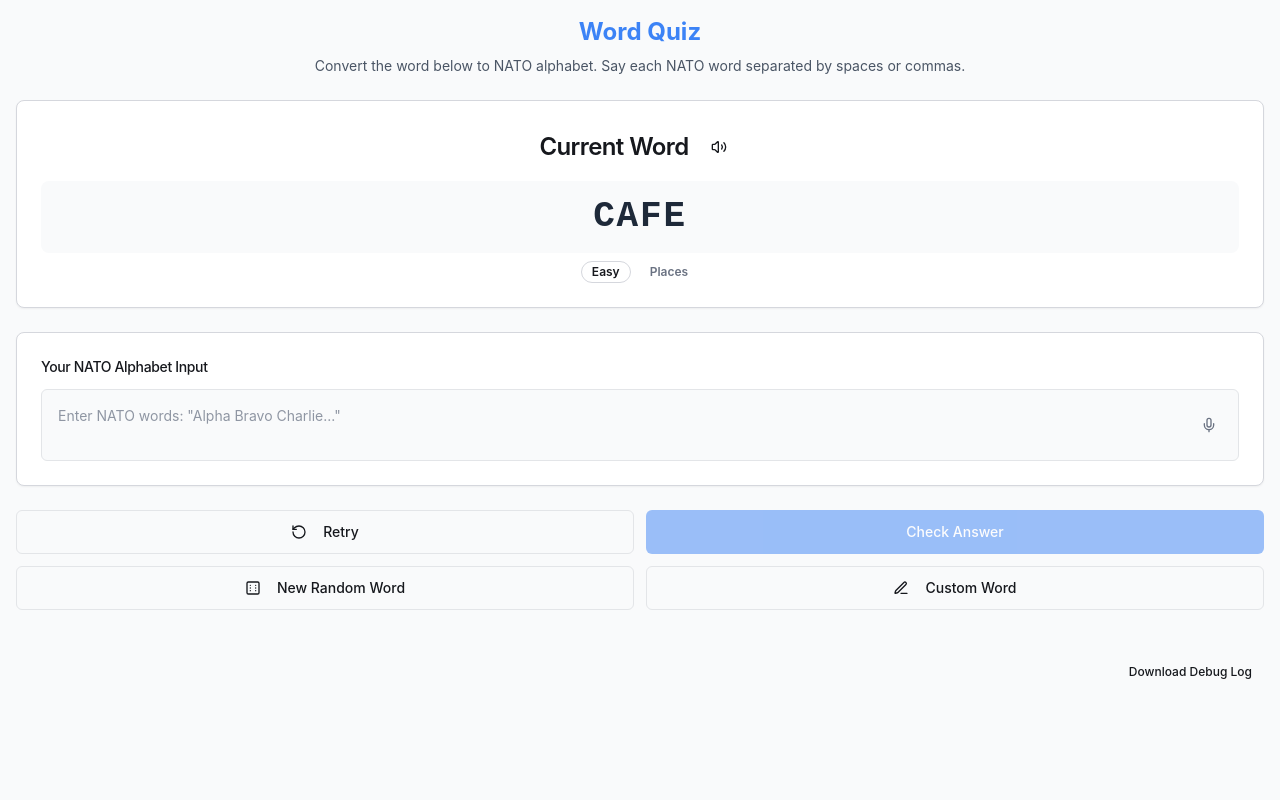
wordQuizSection › user interactions › should allow using custom words
Expected: the heading "Word Quiz" is shown, left=579, top=17, right=701, bottom=46
// Enable custom mode first
Click the button "Custom Word": (955, 588) left=646, top=566, right=1264, bottom=610
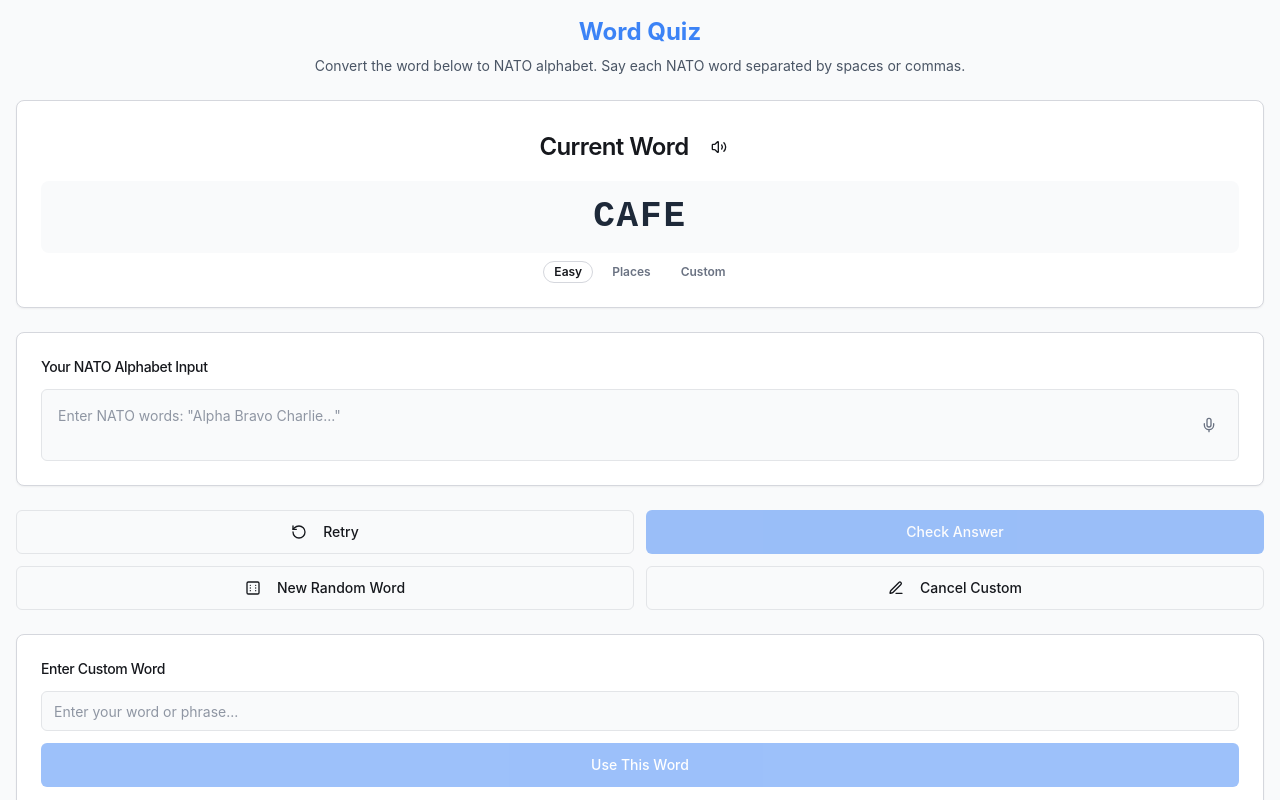
In the field with placeholder "Enter your word or phrase...": (640, 711) left=41, top=691, right=1239, bottom=731, type "HELLO"
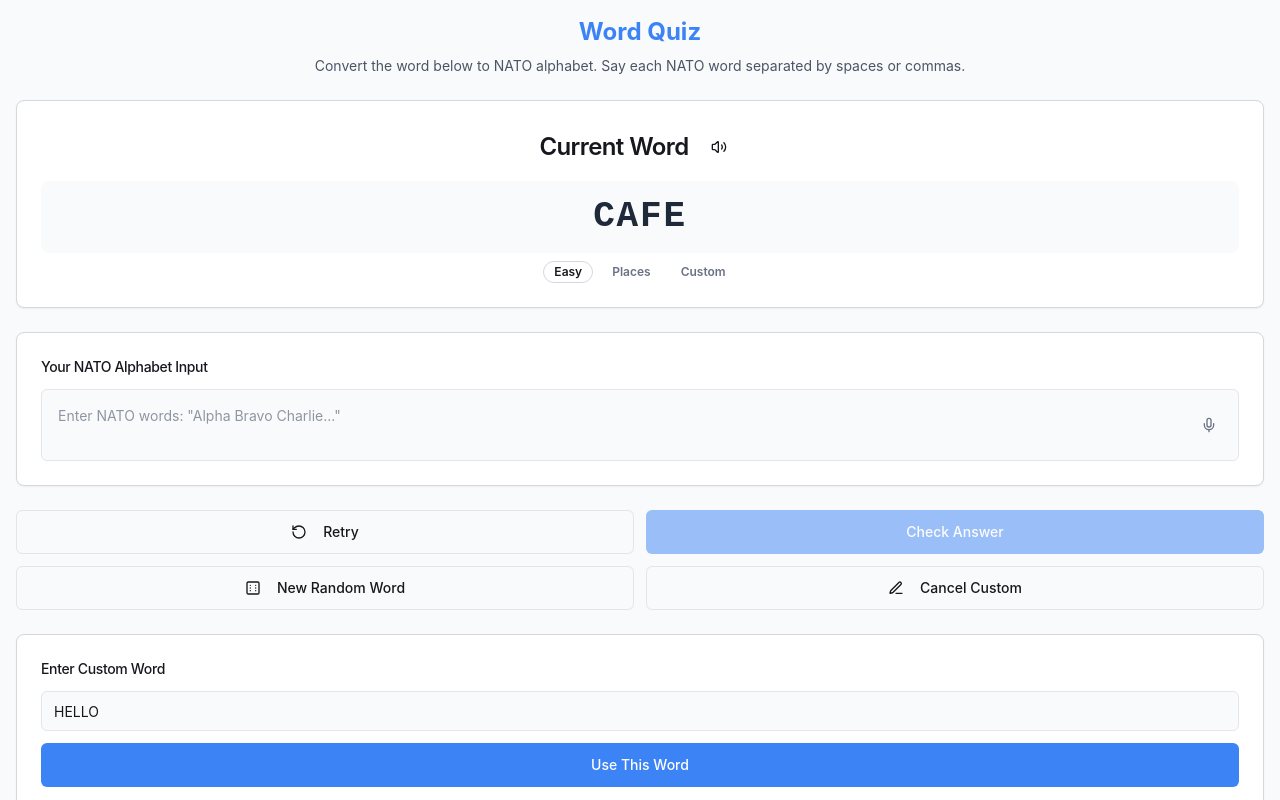
Click the button "Use This Word": (640, 765) left=41, top=743, right=1239, bottom=787
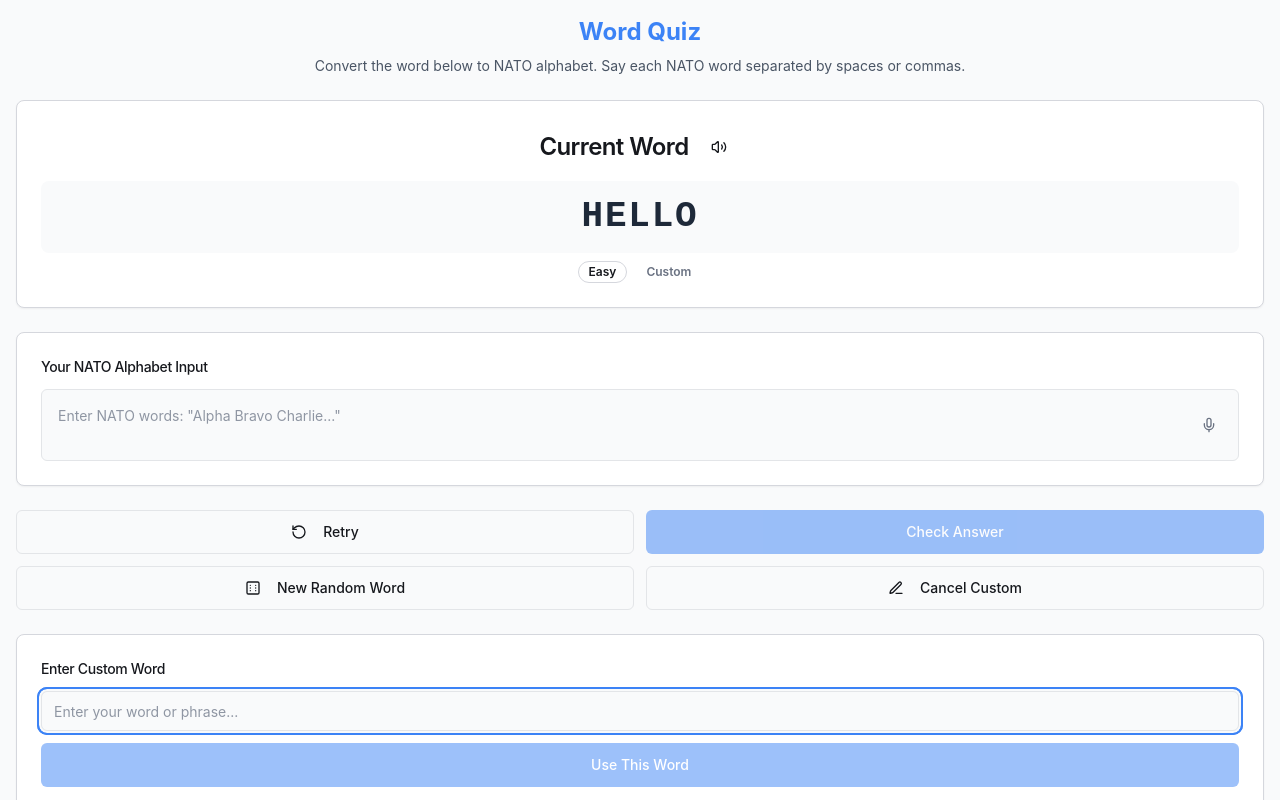
Result: the element with class "font-mono" reads "HELLO" at left=41, top=181, right=1239, bottom=253
